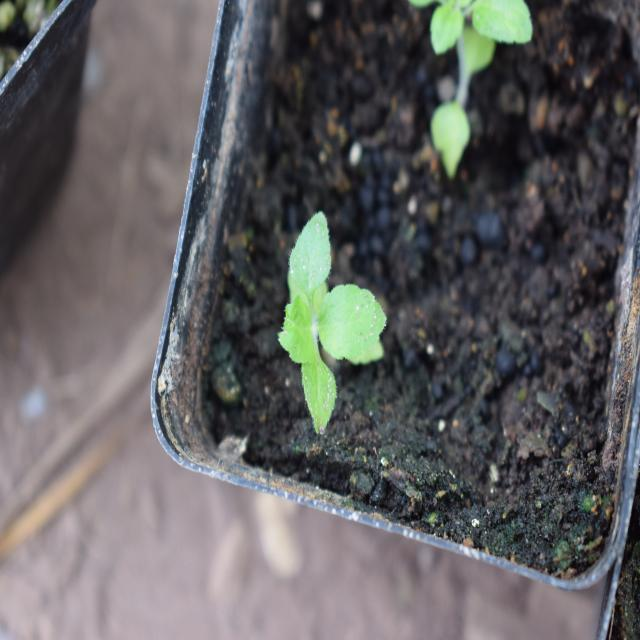billygoat_weed: (276, 212, 386, 448)
